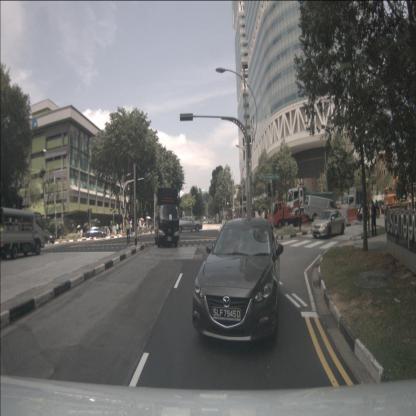human-pedestrian-adult: (242, 207, 248, 244), (371, 200, 377, 236), (256, 209, 262, 238), (264, 209, 268, 237), (261, 208, 265, 236), (138, 218, 143, 234), (130, 218, 134, 236), (146, 218, 148, 234)
movable_object-barrier: (335, 208, 348, 223), (298, 210, 310, 222), (347, 208, 358, 221)
vehicle-car: (192, 217, 280, 346), (304, 195, 340, 225), (311, 209, 346, 239), (176, 216, 202, 233), (36, 229, 56, 245), (86, 226, 107, 239), (138, 222, 152, 234)
vehicle-motorcycle: (359, 202, 370, 222), (357, 200, 367, 221), (370, 199, 380, 218)
vehicle-truck: (0, 207, 44, 260), (286, 188, 336, 226), (152, 187, 180, 248), (272, 201, 308, 229), (340, 186, 370, 219)
